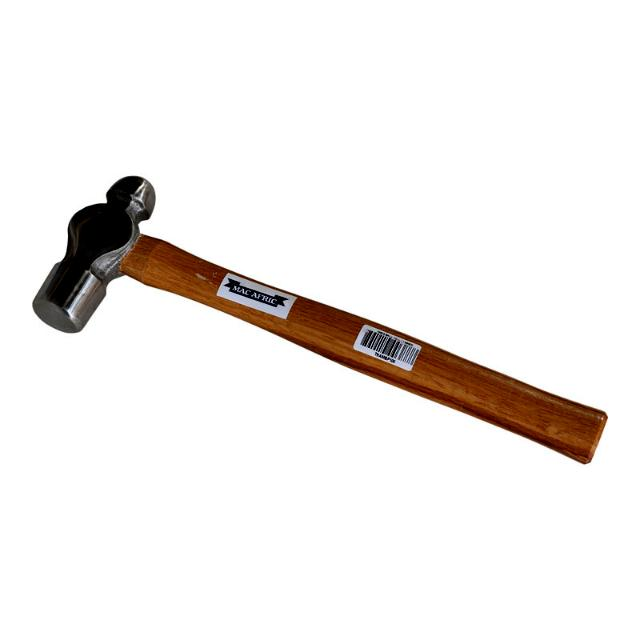hammer: (25, 164, 618, 472)
